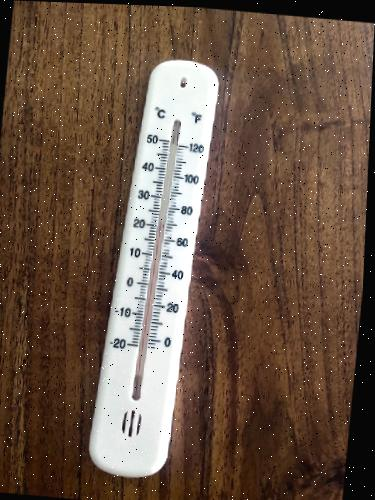thermo: (83, 59, 232, 476)
